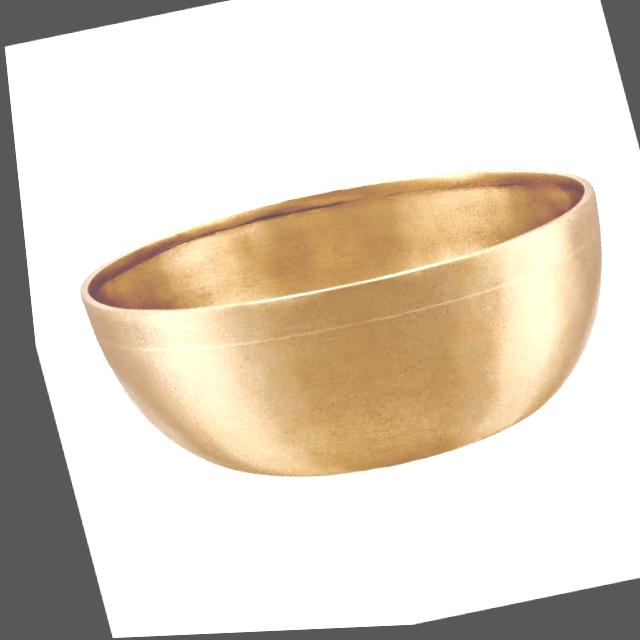Bowl: (82, 170, 601, 476)
